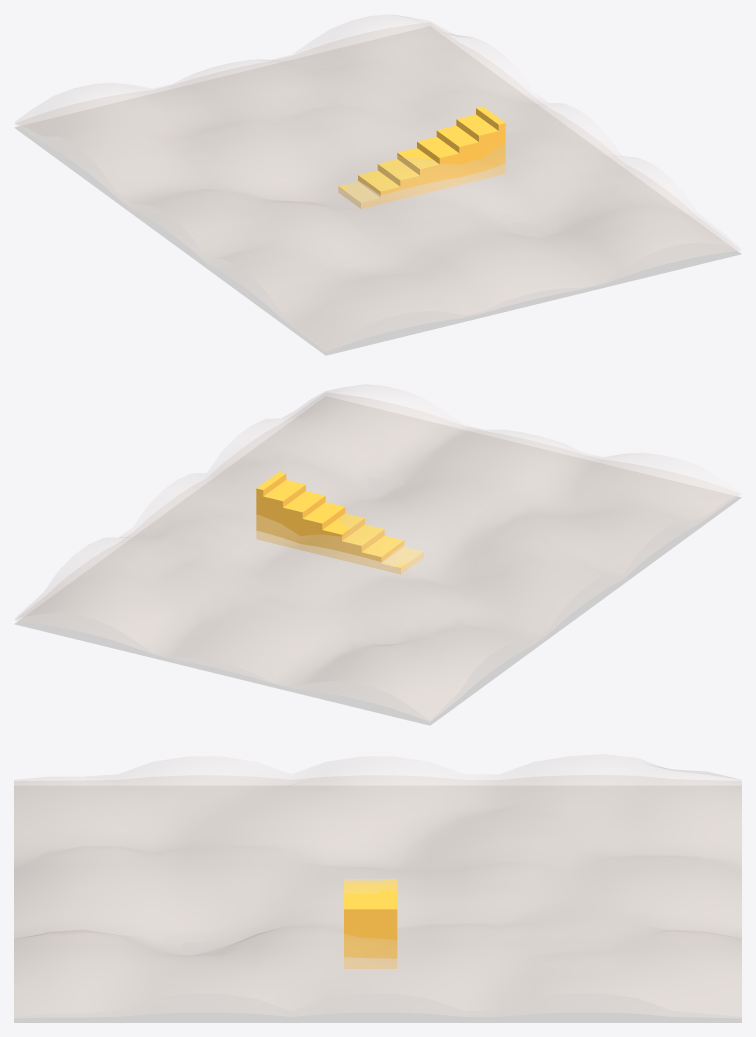
Rendered from rock_kicking_heaven_stairs_ground.glb.
3 renders of one model, top to bottom at view 1: azimuth 30°, elevation 25°; view 2: azimuth 150°, elevation 25°; view 3: azimuth 270°, elevation 25°, orthographic. The views are drawn at different scales.
Parts seen in each view (by area): view 1: heaven_clouds_top, heaven_clouds, heaven_ground, stairs; view 2: heaven_clouds_top, heaven_clouds, heaven_ground, stairs; view 3: heaven_clouds_top, heaven_clouds, heaven_ground, stairs.
Part boxes in pixels (x1,y1,x2,y2): heaven_clouds_top: [15, 14, 740, 349]; heaven_clouds: [14, 22, 741, 351]; heaven_ground: [14, 26, 741, 355]; stairs: [338, 106, 505, 208]; heaven_clouds_top: [15, 384, 741, 719]; heaven_clouds: [14, 392, 741, 721]; heaven_ground: [14, 396, 741, 725]; stairs: [256, 471, 423, 574]; heaven_clouds_top: [14, 754, 741, 1016]; heaven_clouds: [14, 775, 741, 1018]; heaven_ground: [14, 786, 741, 1022]; stairs: [344, 879, 397, 968].
Bounding box in the file's own units: 840 × 101 × 1090.
